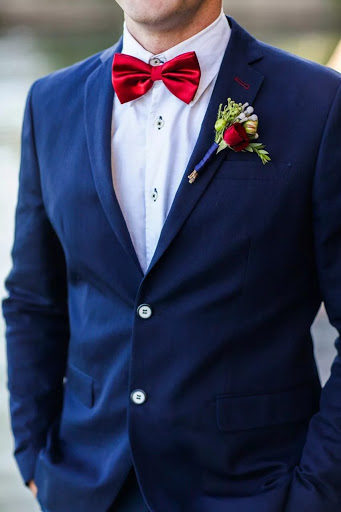bow: (106, 49, 204, 107)
